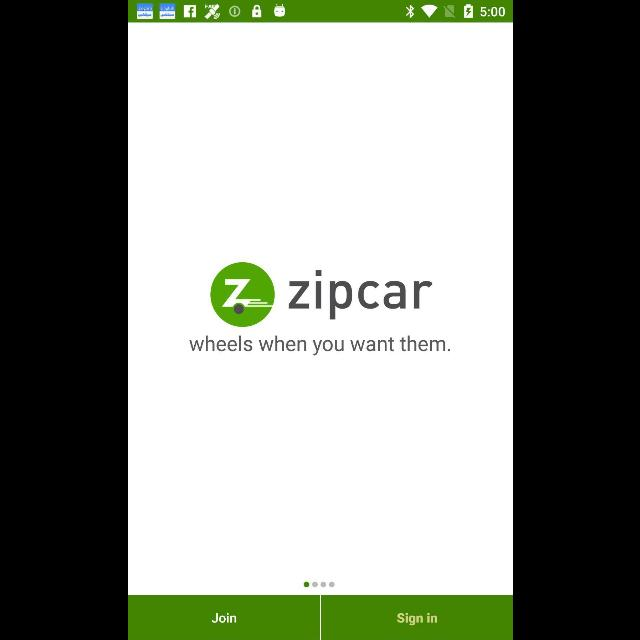image: (210, 261, 432, 327)
pageindicator: (303, 582, 335, 588)
text: (188, 336, 450, 356)
textbutton: (320, 596, 512, 640), (128, 596, 318, 640)
uppertaskbar: (128, 1, 512, 23)
